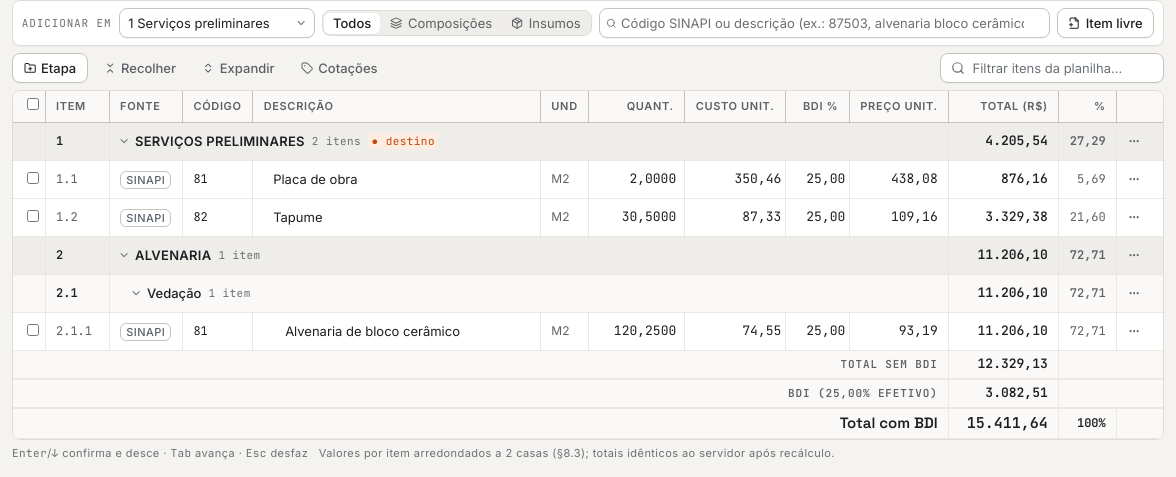
Test: OrcamentoAnaliticoPage (planilha) › filtro por descrição/código mantém só os itens que casam (sem acento)
Step 1. Type "ceramico" into the field labelled "Filtrar itens" → (1052, 68), box [940,53,1164,83]
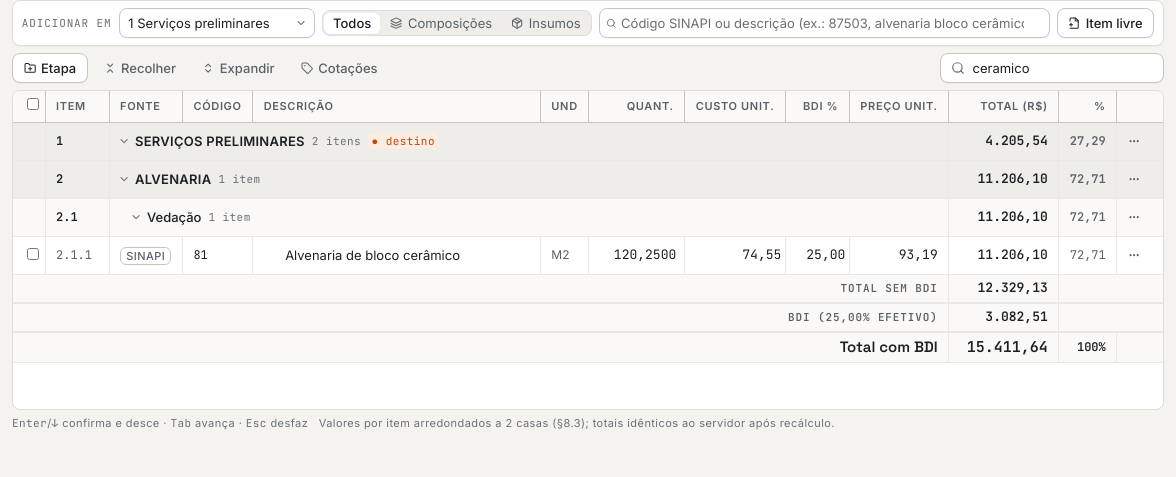
Expected: the text "Alvenaria de bloco cerâmico" is shown, [285,245,460,265]
Expected: the text "Placa de obra" is gone
